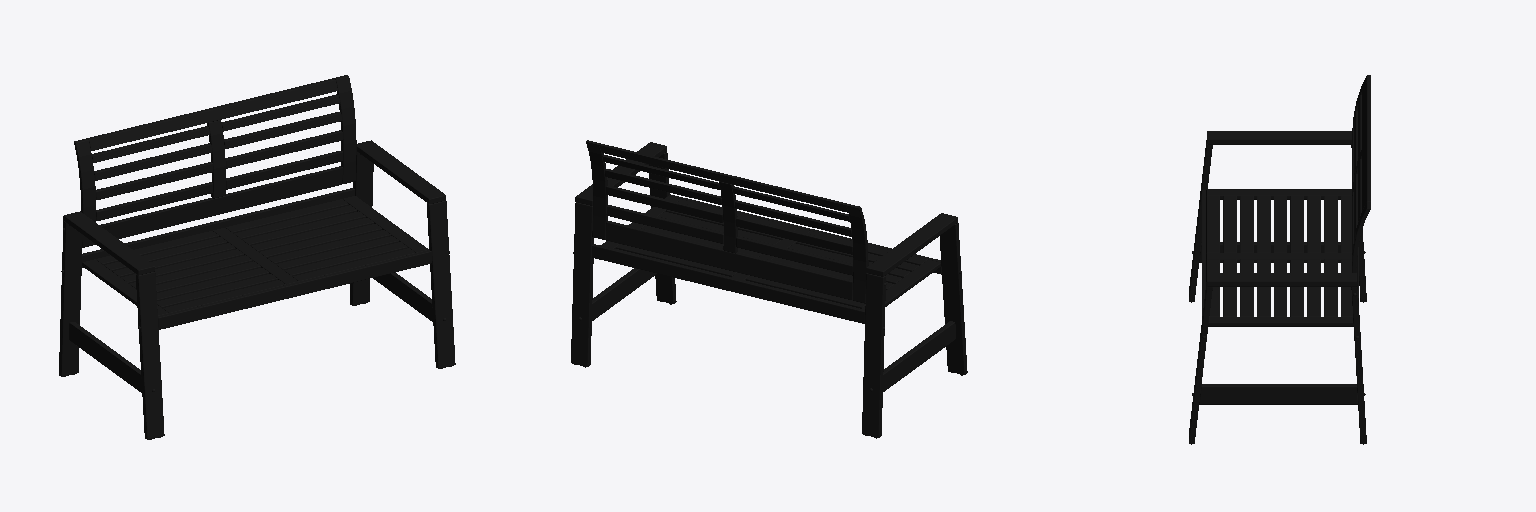
The model's file is chair2.obj.
The picture shows the model from 3 angles: view 1: azimuth 30°, elevation 25°; view 2: azimuth 150°, elevation 25°; view 3: azimuth 270°, elevation 25°; orthographic projection.
Parts seen in each view (by area): view 1: 12_PROVIZ_INFO_APPLARO_BENCH; view 2: 12_PROVIZ_INFO_APPLARO_BENCH; view 3: 12_PROVIZ_INFO_APPLARO_BENCH.
Part boxes in pixels (x1,y1,x2,y2): 12_PROVIZ_INFO_APPLARO_BENCH: (59,75,455,439); 12_PROVIZ_INFO_APPLARO_BENCH: (571,140,967,438); 12_PROVIZ_INFO_APPLARO_BENCH: (1189,75,1370,444).
Size of the model in its own units: 117 by 82 by 59.3.